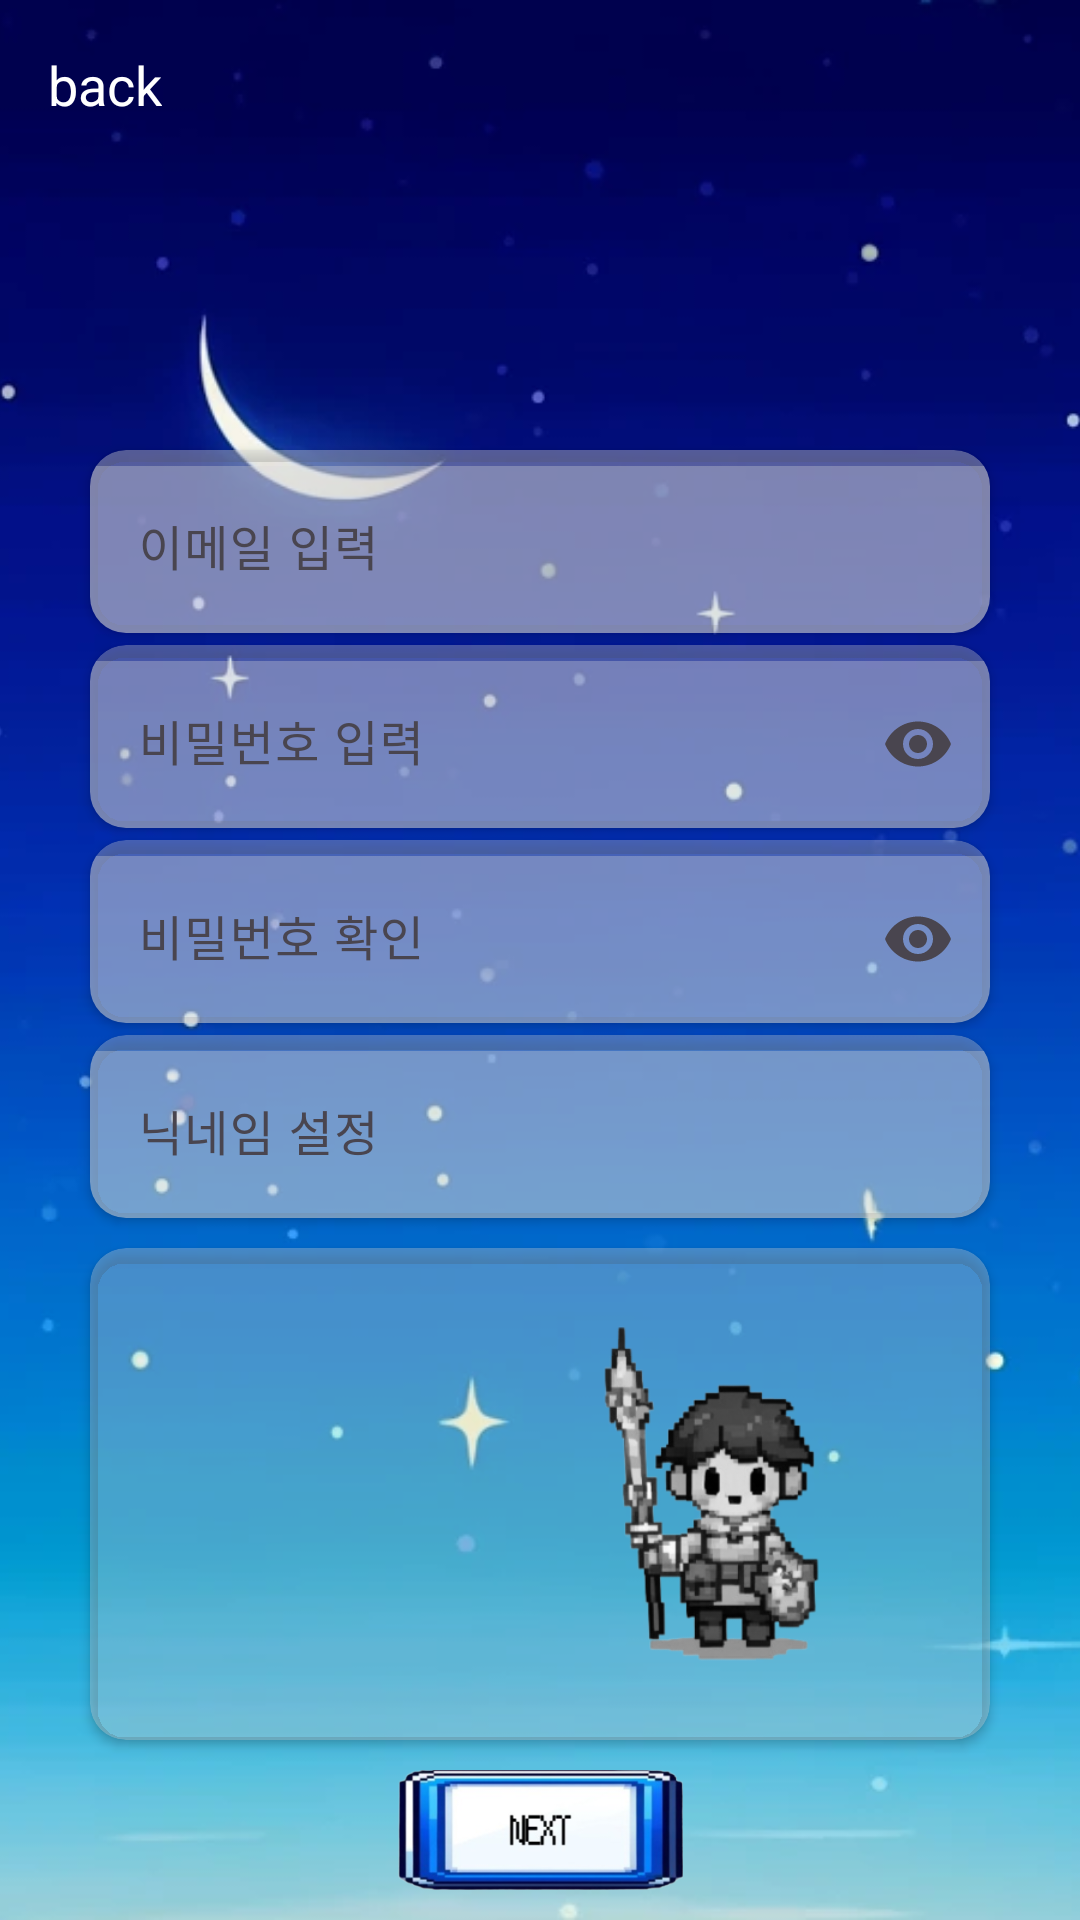

Named icons in this screenshot (1080x1920) and their centers, point (x, y):
level up char bl: point (720, 1494)
